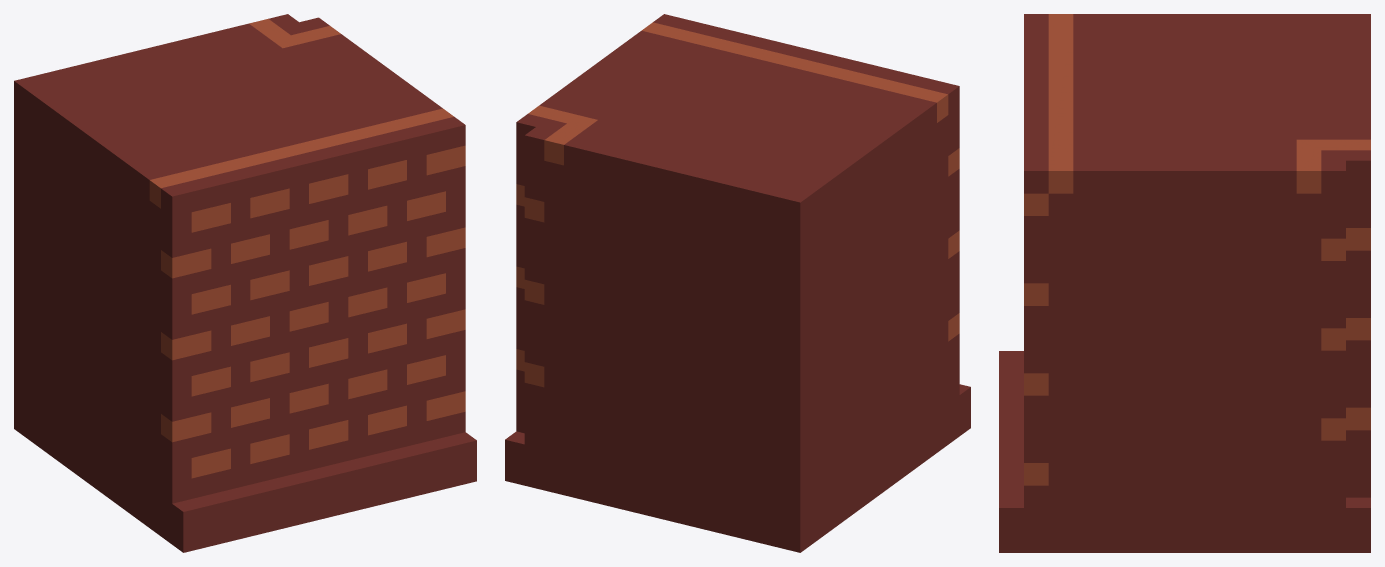
Rendered from dungeon_b_a_outer_wall_segment_d_flipped.obj.
The picture shows the model from 3 angles, left to right: view 1: azimuth 30°, elevation 25°; view 2: azimuth 150°, elevation 25°; view 3: azimuth 270°, elevation 25°; orthographic projection. The views are drawn at different scales.
Size of the model in its own units: 1.5 by 1.7 by 1.5.
1 material, 1 textured.
